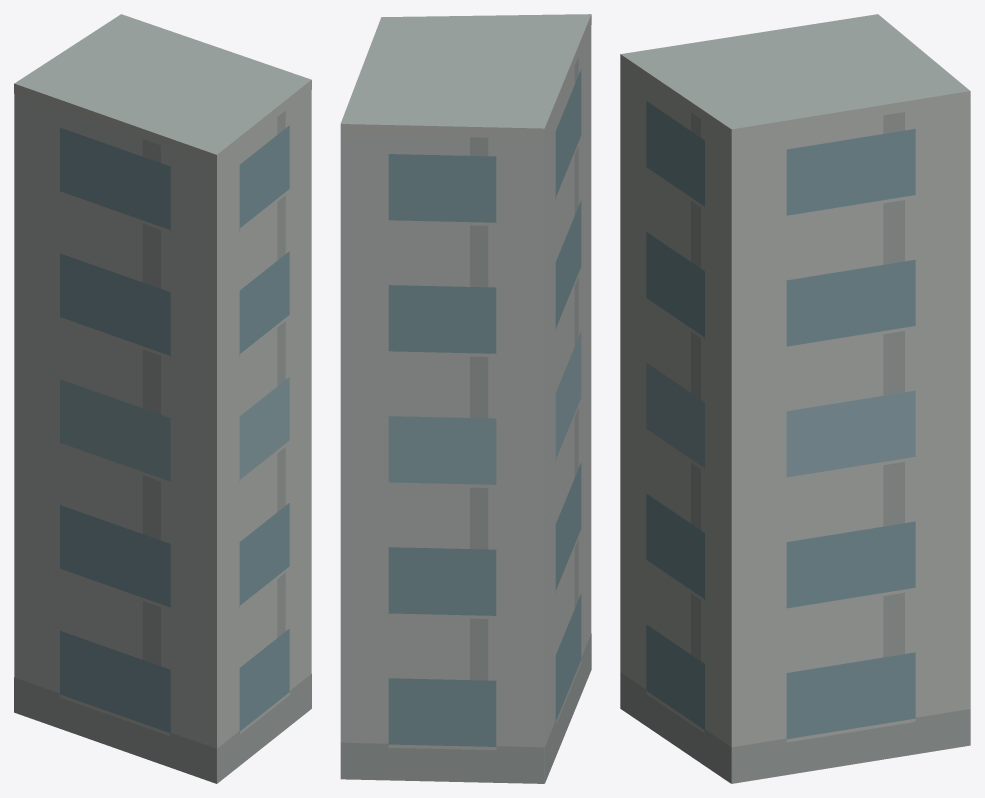
The model's file is survey-upis-32935685.glb.
3 views of the same model, side by side, from view 1: azimuth 30°, elevation 25°; view 2: azimuth 150°, elevation 25°; view 3: azimuth 270°, elevation 25° (orthographic). The views are drawn at different scales.
Visible parts, largest first — view 1: survey-upis-32935685.tmp; view 2: survey-upis-32935685.tmp; view 3: survey-upis-32935685.tmp.
Part boxes in pixels (bbox=[...]): survey-upis-32935685.tmp: bbox=[14, 14, 311, 783]; survey-upis-32935685.tmp: bbox=[340, 14, 591, 783]; survey-upis-32935685.tmp: bbox=[620, 14, 970, 783].
Size of the model in its own units: 5.77 by 15.25 by 7.4.
